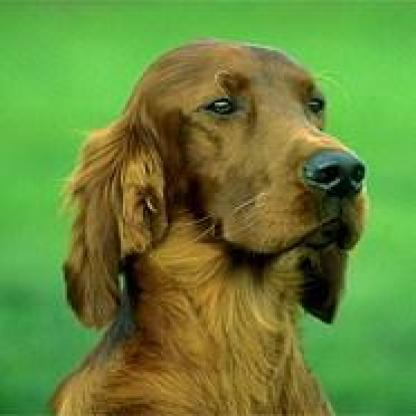Irish_setter: (63, 38, 364, 412)
